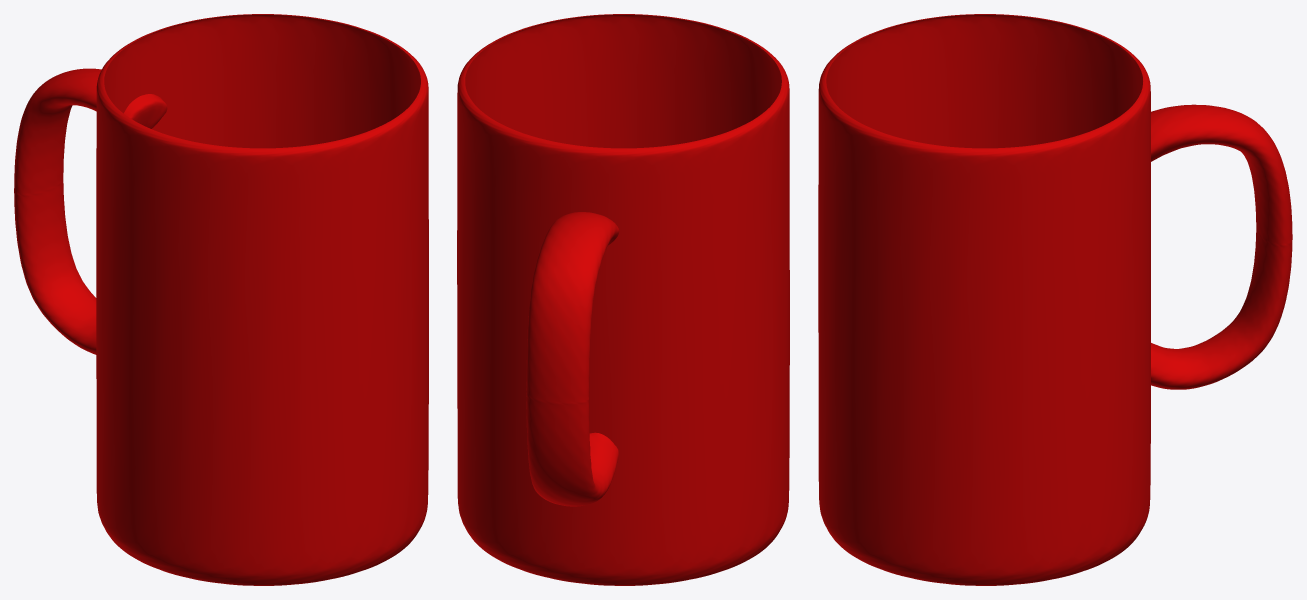
File: mug2.glb
3 views of the same model, side by side, from view 1: azimuth 30°, elevation 25°; view 2: azimuth 150°, elevation 25°; view 3: azimuth 270°, elevation 25° (orthographic).
Visible parts, largest first — view 1: Object_2; view 2: Object_2; view 3: Object_2.
Boxes of the visible parts, bbox=[...] form: Object_2: bbox=[14, 14, 428, 585]; Object_2: bbox=[457, 14, 789, 585]; Object_2: bbox=[818, 14, 1292, 585].
Bounding box in the file's own units: 0.7883 × 1.15 × 1.12.
